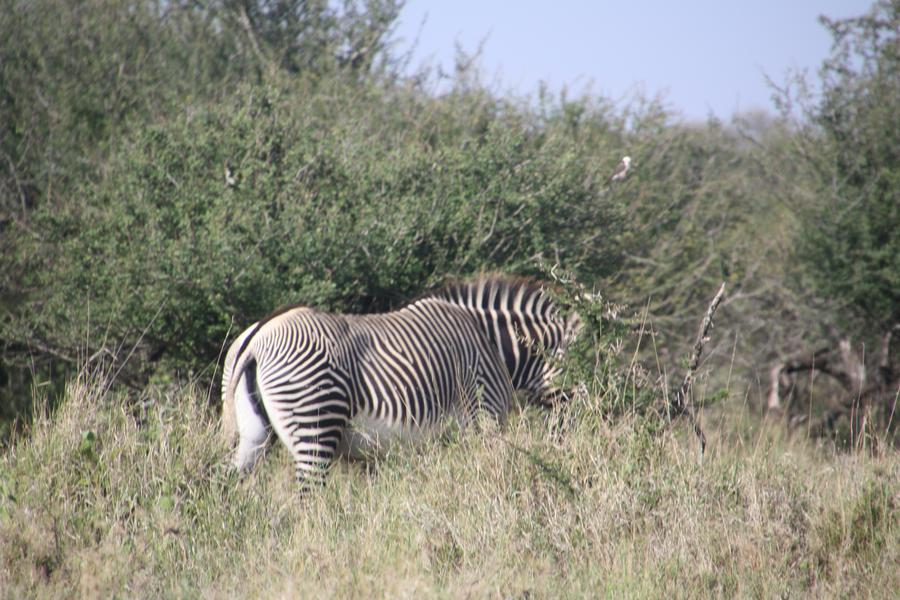zebra_grevys: (227, 297, 537, 428)
